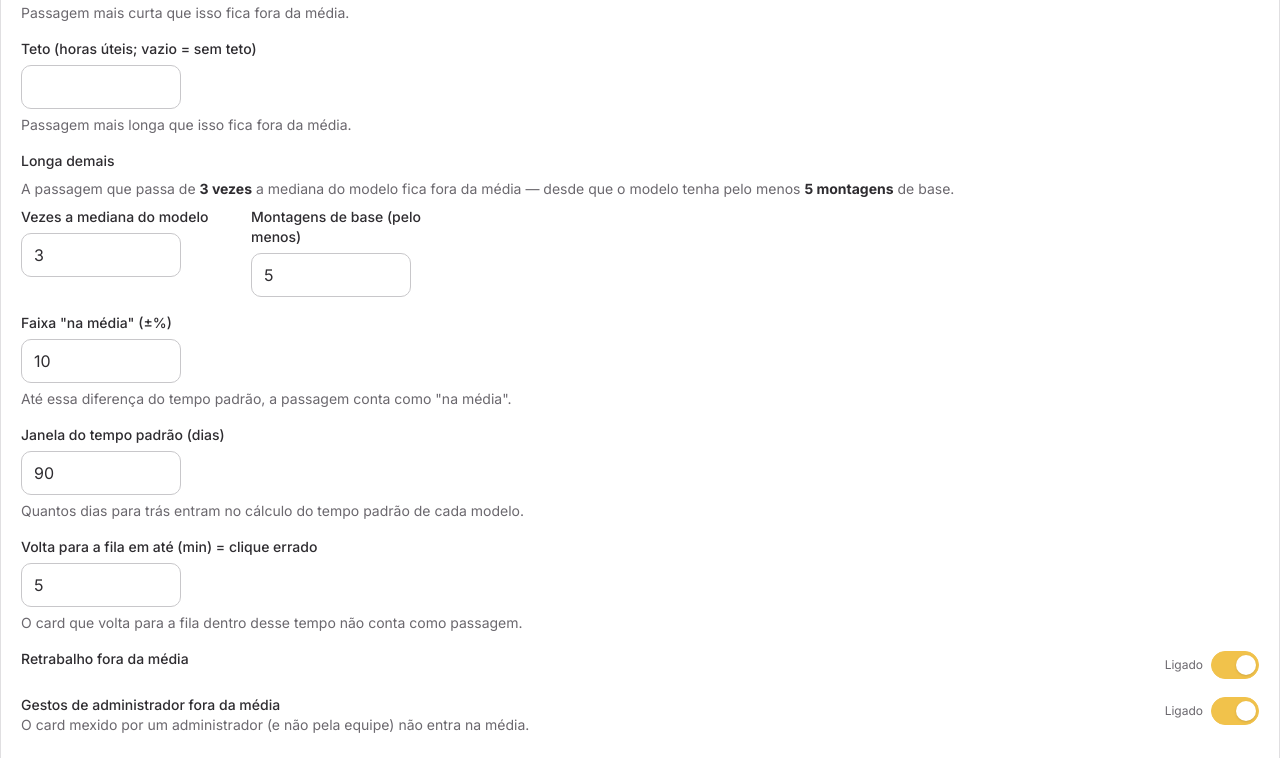
Test: Configurações → Controle de tempo › um valor fora do limite avisa e não deixa salvar
(page scrolled)
Replace the text in the field labelled "Faixa \"na média\" (±%)" with "80": point(101, 361) [21,339,181,383]
(page scrolled)
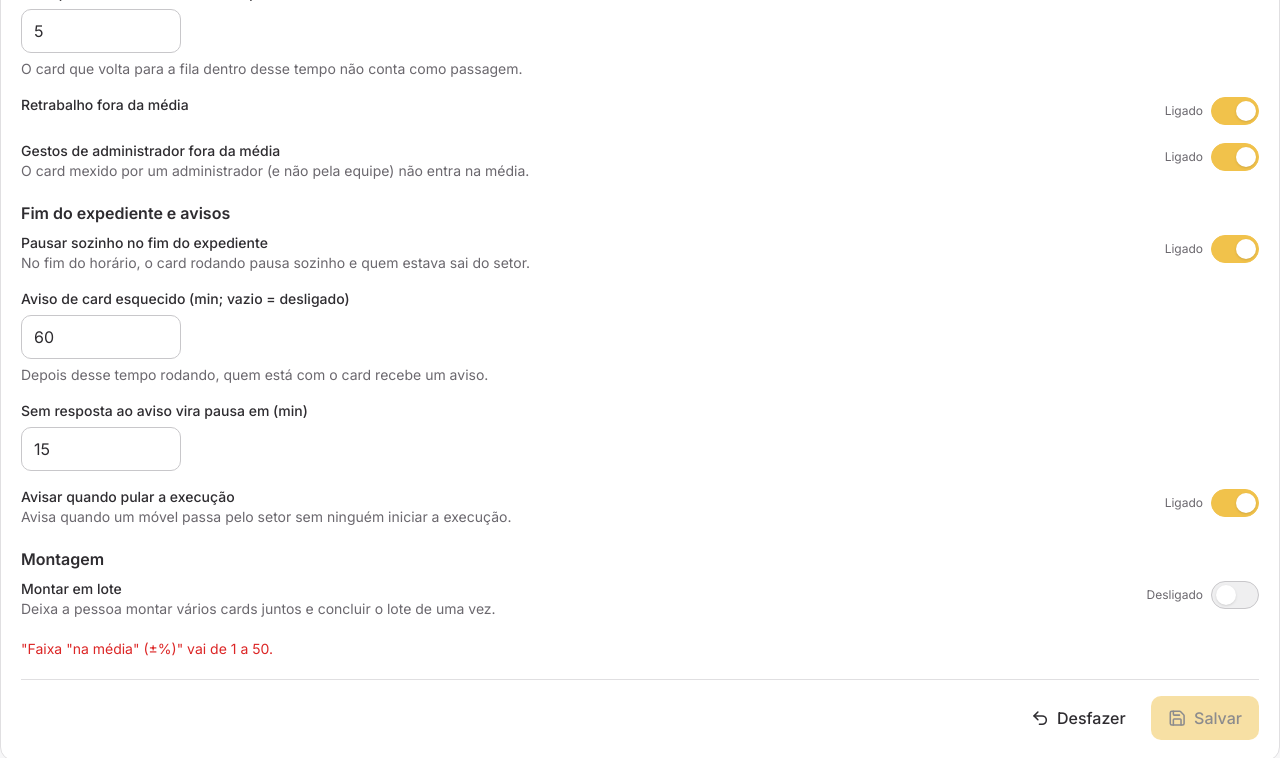
Expected: the button "Salvar" is disabled, [1151,696,1259,740]
Result: the message shows "vai de 1 a 50" at [21,640,273,657]
